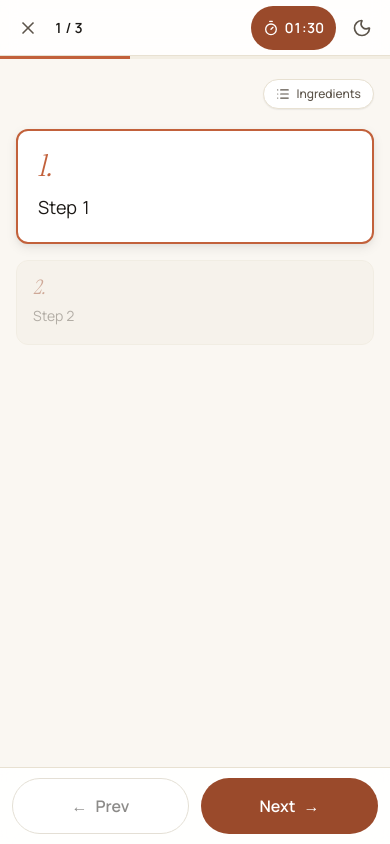
Scenario: shows one running timer pill per layout that opens the timer sheet on mobile
Step 1. Click the button named "Open timer" → (293, 28), box [251,6,336,50]
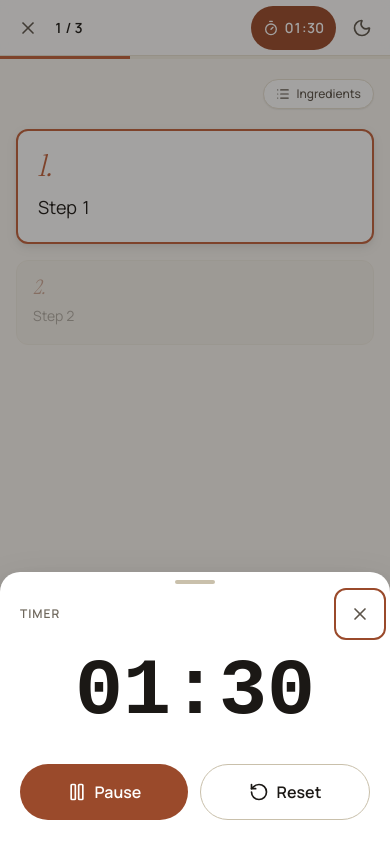
Now the dialog "Timer" is shown, box [0,572,389,843]
